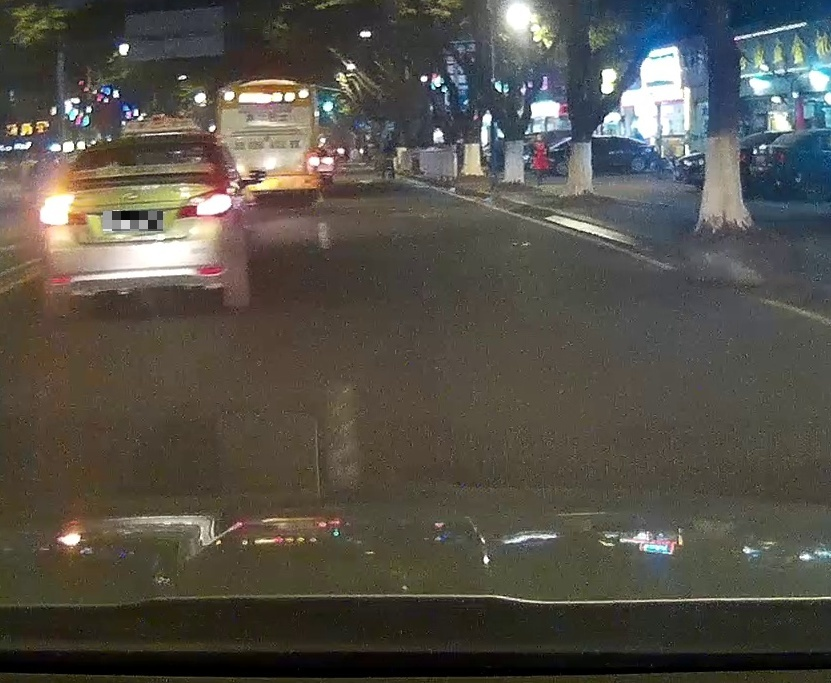L_light: (38, 194, 89, 227)
R_light: (172, 188, 233, 220)
T_light: (122, 144, 154, 150)
night-left: (38, 131, 234, 319)
plate_1: (103, 211, 163, 231)
